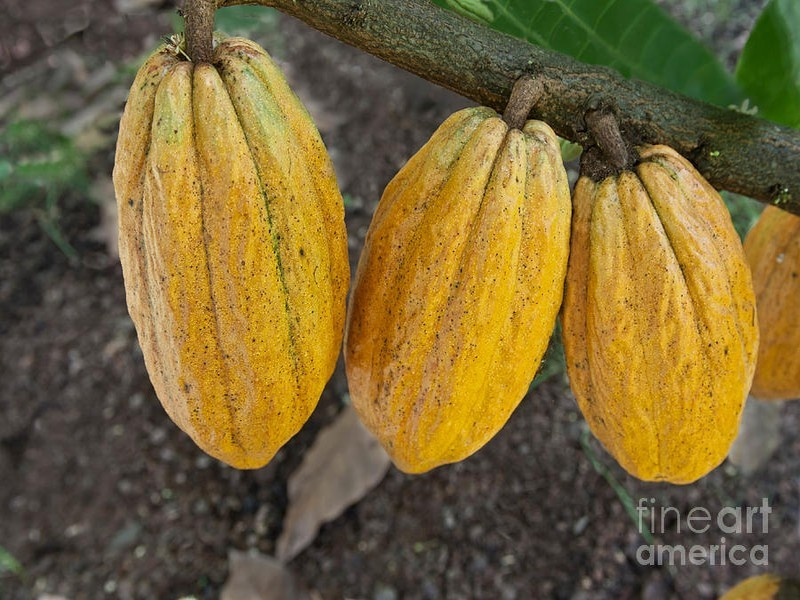Cacaopod: (110, 23, 354, 476), (337, 100, 572, 475), (553, 144, 769, 490)
